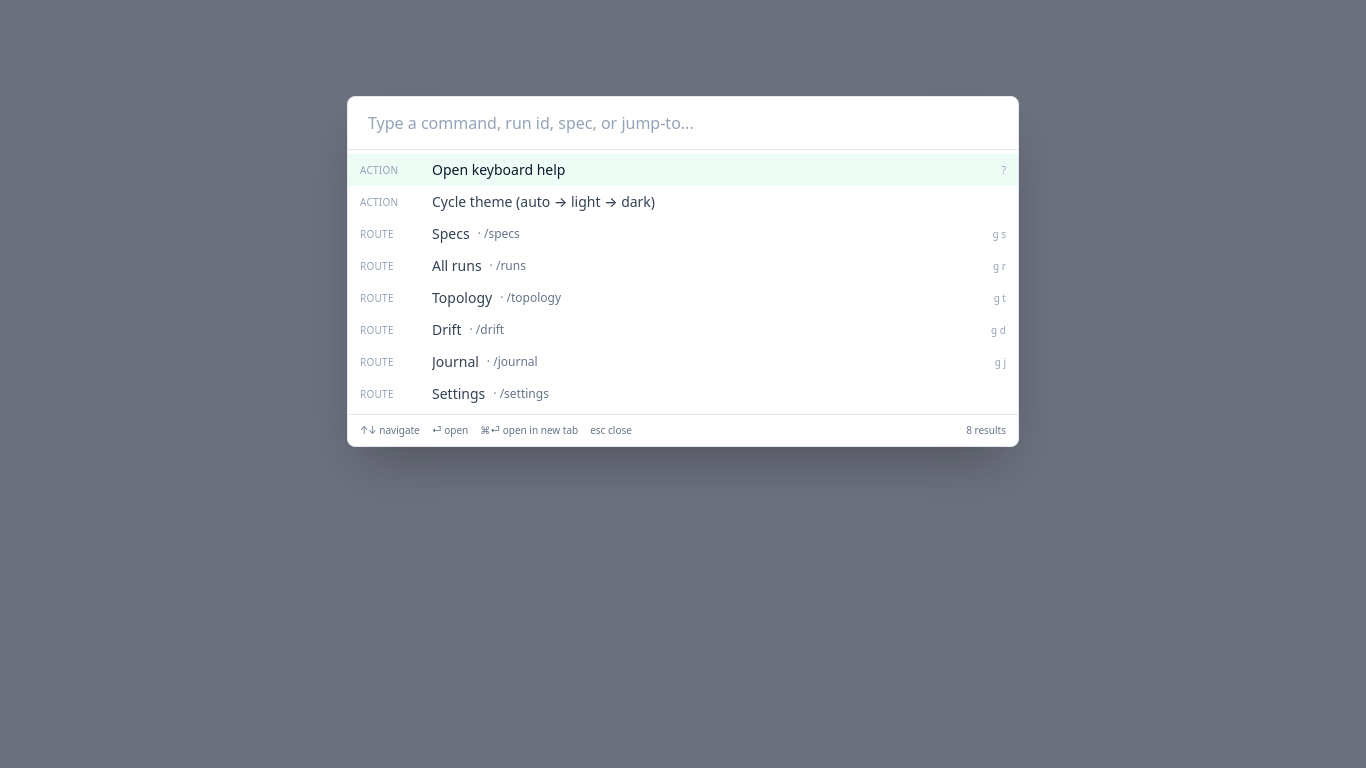
Test: CommandPalette › typing filters the result list
The image size is (1366, 768).
Type "topo" into the search field named "Command palette search" at [683, 123], box x1=360 y1=105 x2=1006 y2=141
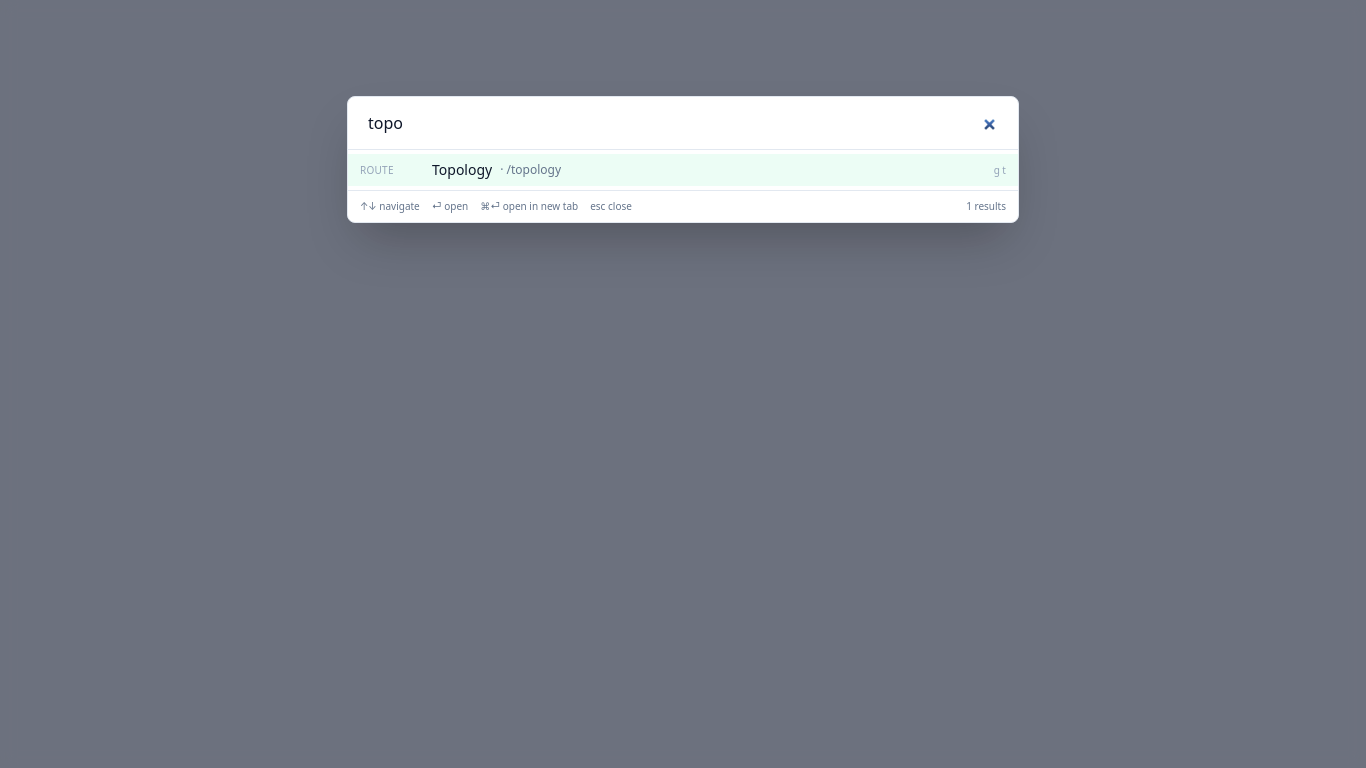
Expected: the text "Topology" is shown, x1=432 y1=160 x2=492 y2=180
Now the option "Settings" is gone
